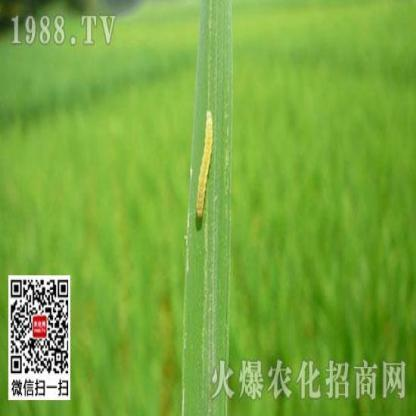leaf-folder: (187, 98, 218, 236)
